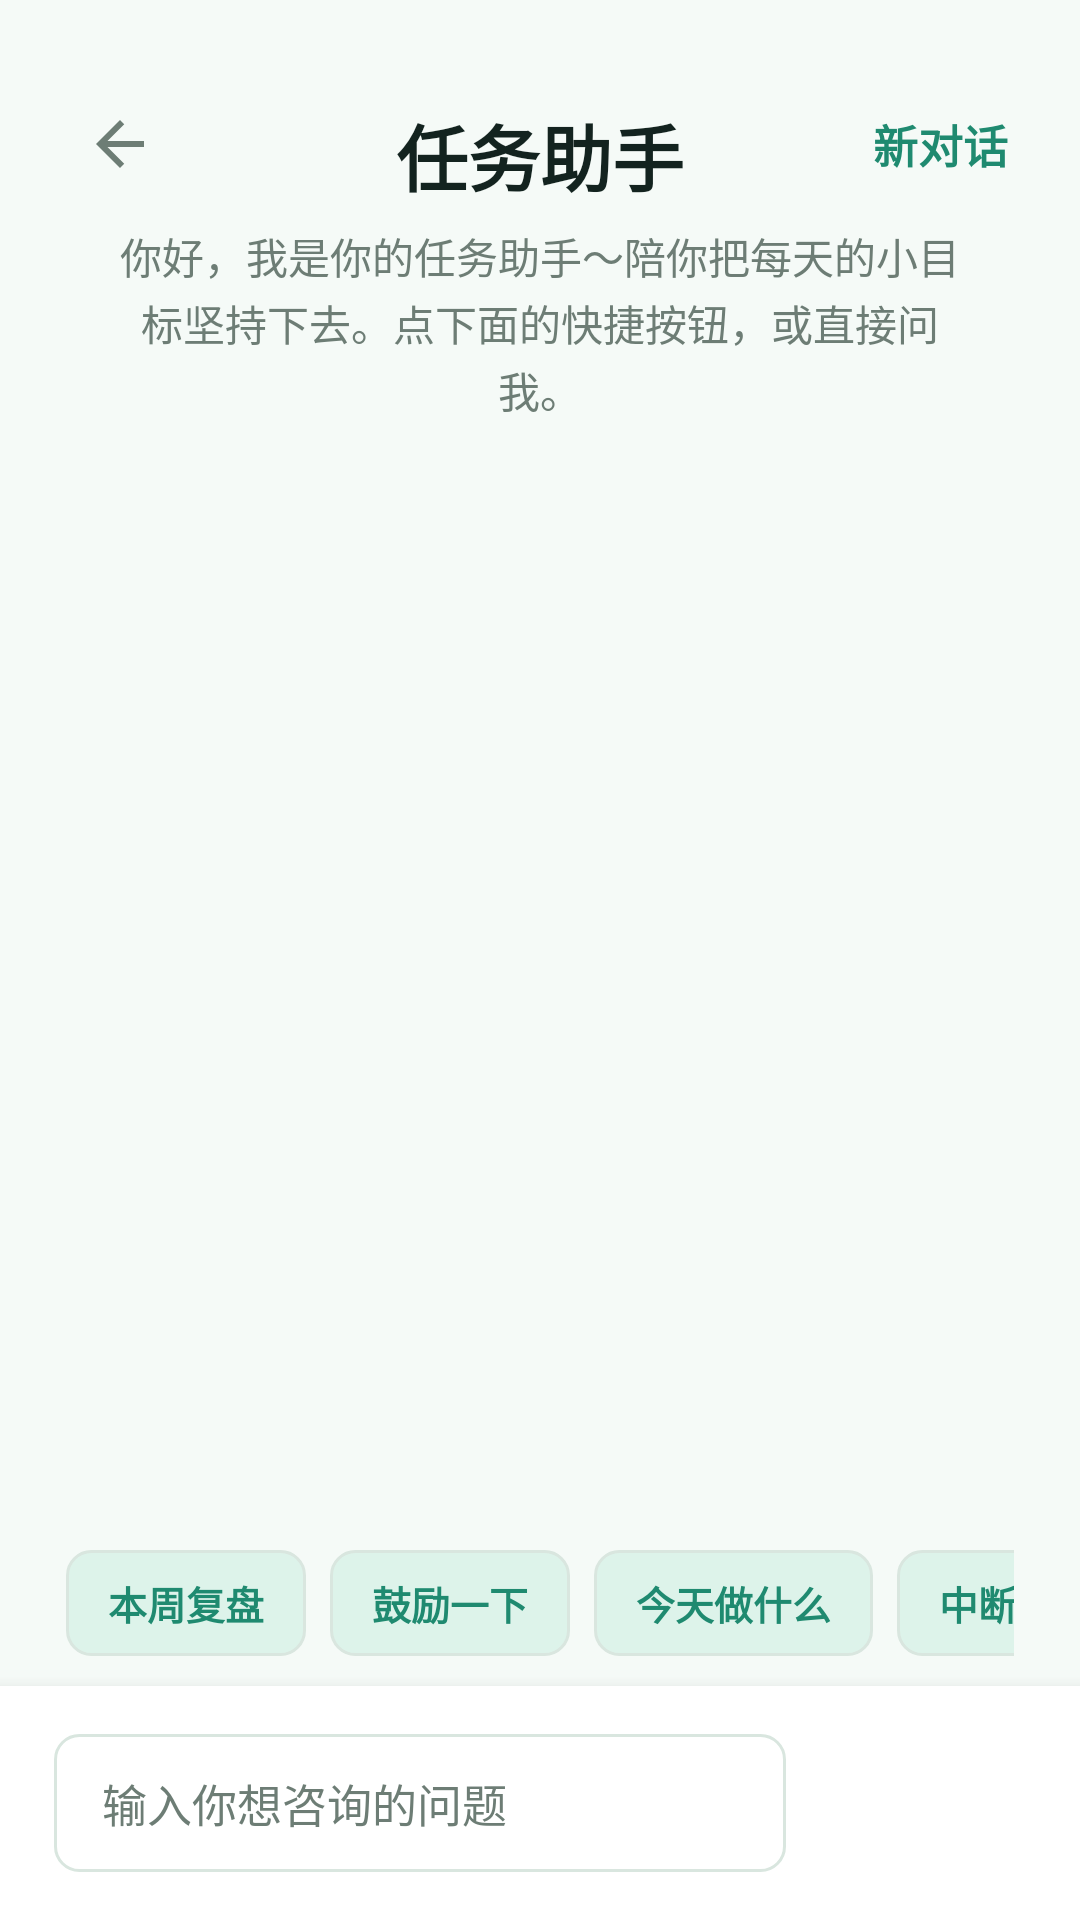

Screen size 1080 × 1920. Icon name, then its box in pixels as [x1, y1, x2, y2]:
返回: [96, 120, 144, 168]
